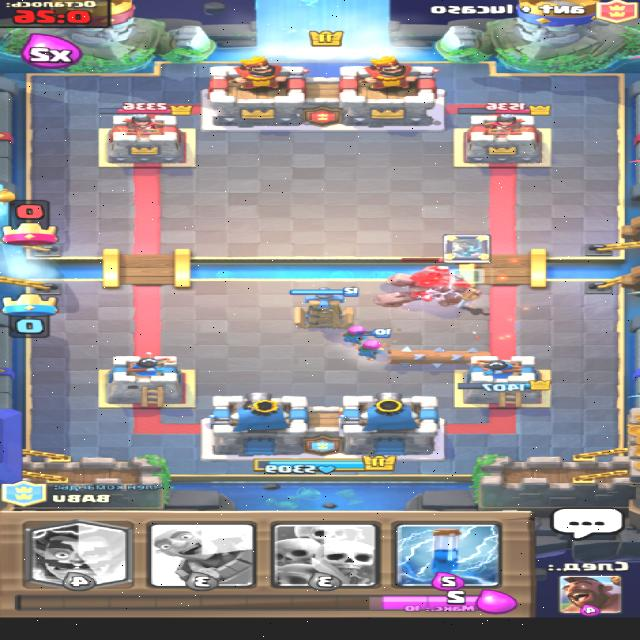Enemy-Golem: (373, 257, 482, 307)
Player-Archer: (356, 328, 394, 362), (342, 324, 368, 345)
Player-Log: (390, 344, 496, 368)
Player-Tesla: (289, 286, 361, 329)
